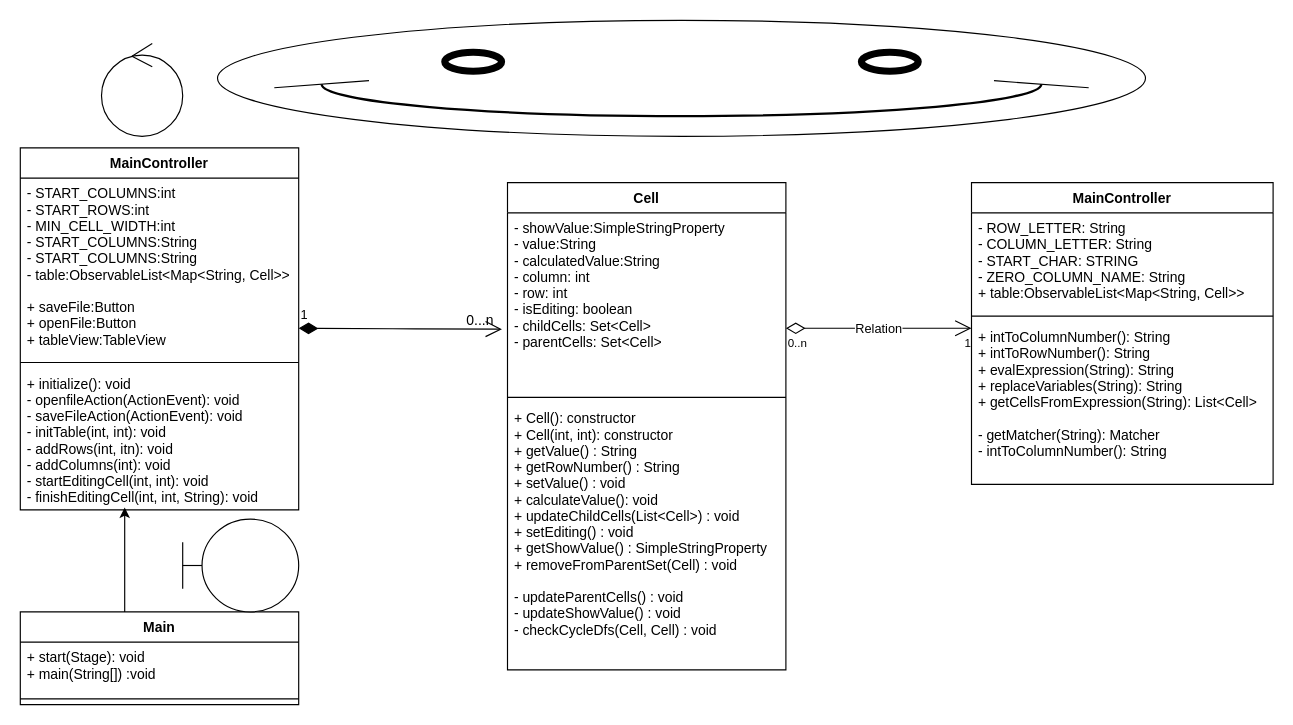
Some shapes in this 1293 by 725 pixel diagram are drawn without their labels. The shapes that lost their labels are listed below. From the top down, each one's centre as x and y in pixels, then its label:
At point 141,89: "Control Object".
At point 240,565: "Boundary Object".
